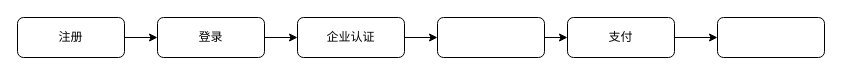
This 842x75 diagram has some shape labels left out. The box of each missing label's shape, as (x1, y1, x2, y2) in pixels:
售后/客服: (716, 16, 824, 58)
购买产品: (436, 16, 544, 58)
